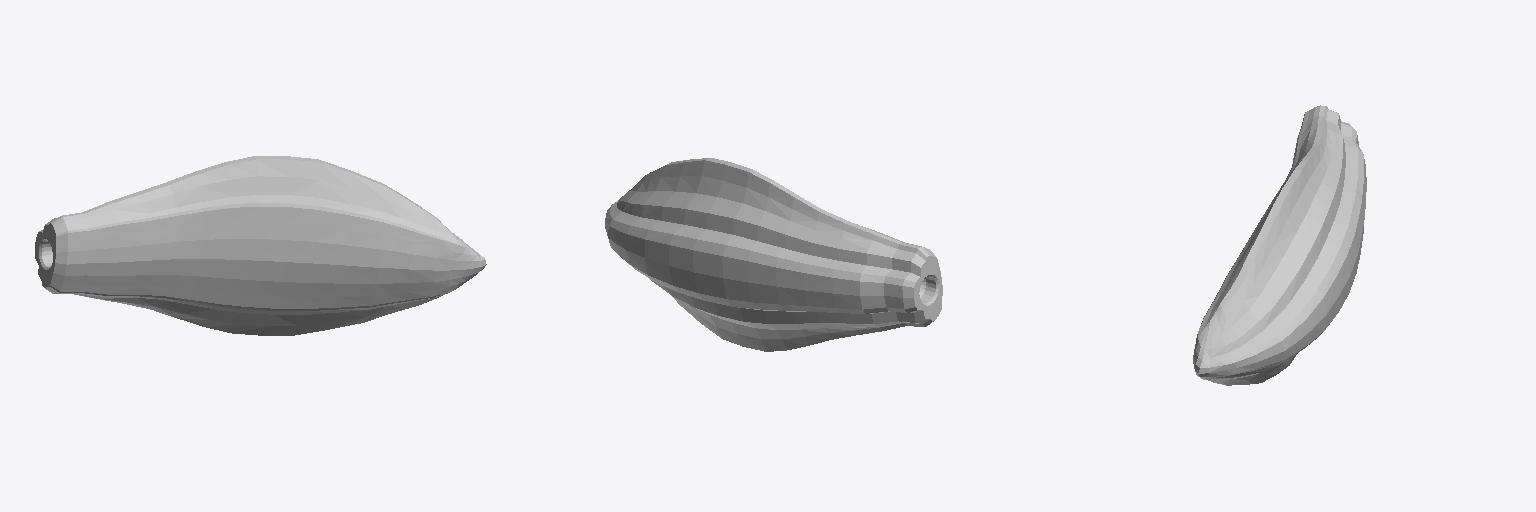
File: TraseraDerecha.obj
3 views of the same model, side by side, from view 1: azimuth 30°, elevation 25°; view 2: azimuth 150°, elevation 25°; view 3: azimuth 270°, elevation 25° (orthographic).
Parts seen in each view (by area): view 1: polySurface3 Mesh; view 2: polySurface3 Mesh; view 3: polySurface3 Mesh.
Boxes of the visible parts, x1,y1,x2,y2 form: polySurface3 Mesh: [35, 156, 486, 335]; polySurface3 Mesh: [605, 158, 942, 351]; polySurface3 Mesh: [1193, 105, 1366, 385].
Bounding box in the file's own units: 1.37 × 0.617 × 0.5405.